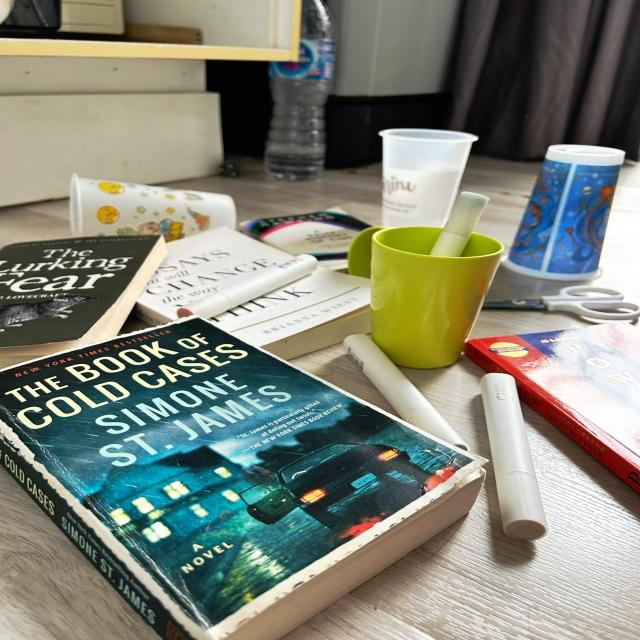Book: (0, 319, 484, 640), (129, 226, 370, 360), (465, 323, 639, 492), (0, 236, 167, 368), (238, 201, 370, 269)
HighLight Pen: (343, 334, 468, 452), (481, 373, 548, 539), (178, 254, 318, 320), (430, 192, 488, 256)
Plastic Cup: (506, 146, 623, 279), (69, 174, 235, 242), (379, 129, 477, 227)
Scissors: (483, 286, 639, 323)
WaterGlass: (375, 227, 505, 371), (349, 228, 384, 281)
